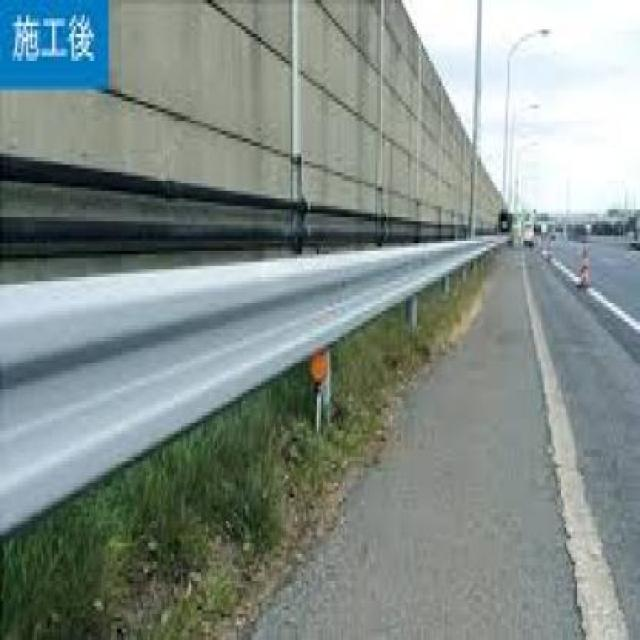Guard rail: (1, 232, 507, 546)
